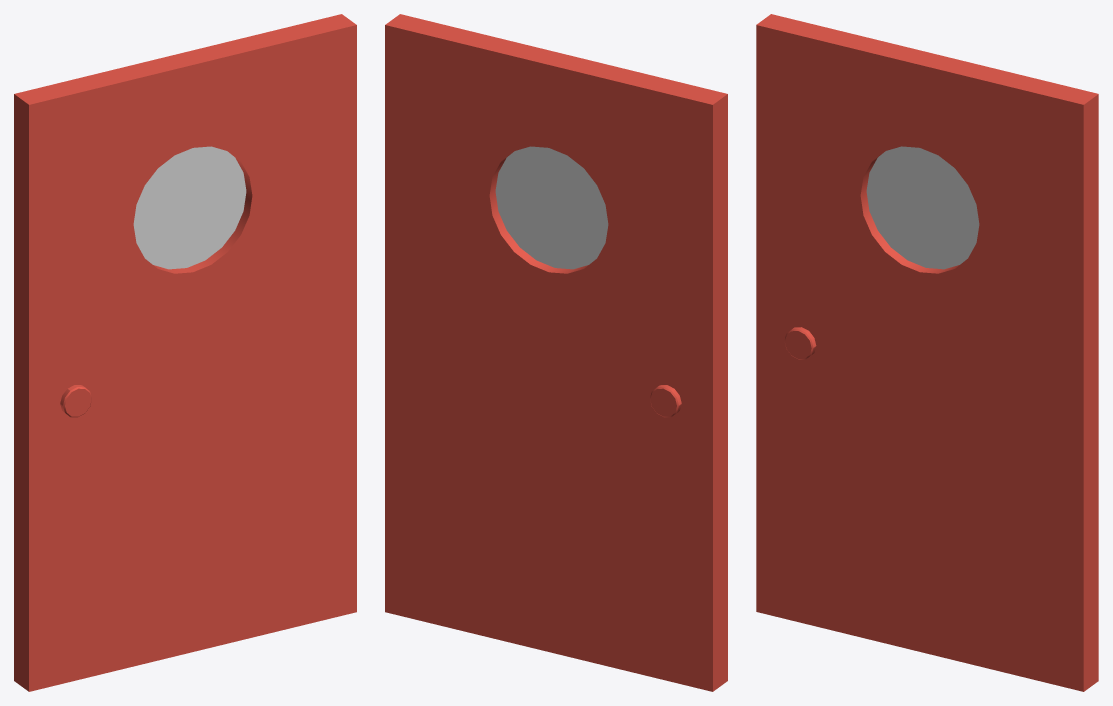
File: door_3_low.fbx
3 renders of one model, left to right at view 1: azimuth 30°, elevation 25°; view 2: azimuth 150°, elevation 25°; view 3: azimuth 330°, elevation 25°, orthographic.
Visible parts, largest first — view 1: door_3_low; view 2: door_3_low; view 3: door_3_low.
Boxes of the visible parts, x1,y1,x2,y2 form: door_3_low: (14, 14, 356, 691); door_3_low: (385, 14, 727, 691); door_3_low: (756, 14, 1098, 691).
Size of the model in its own units: 161 by 276 by 18.79.
